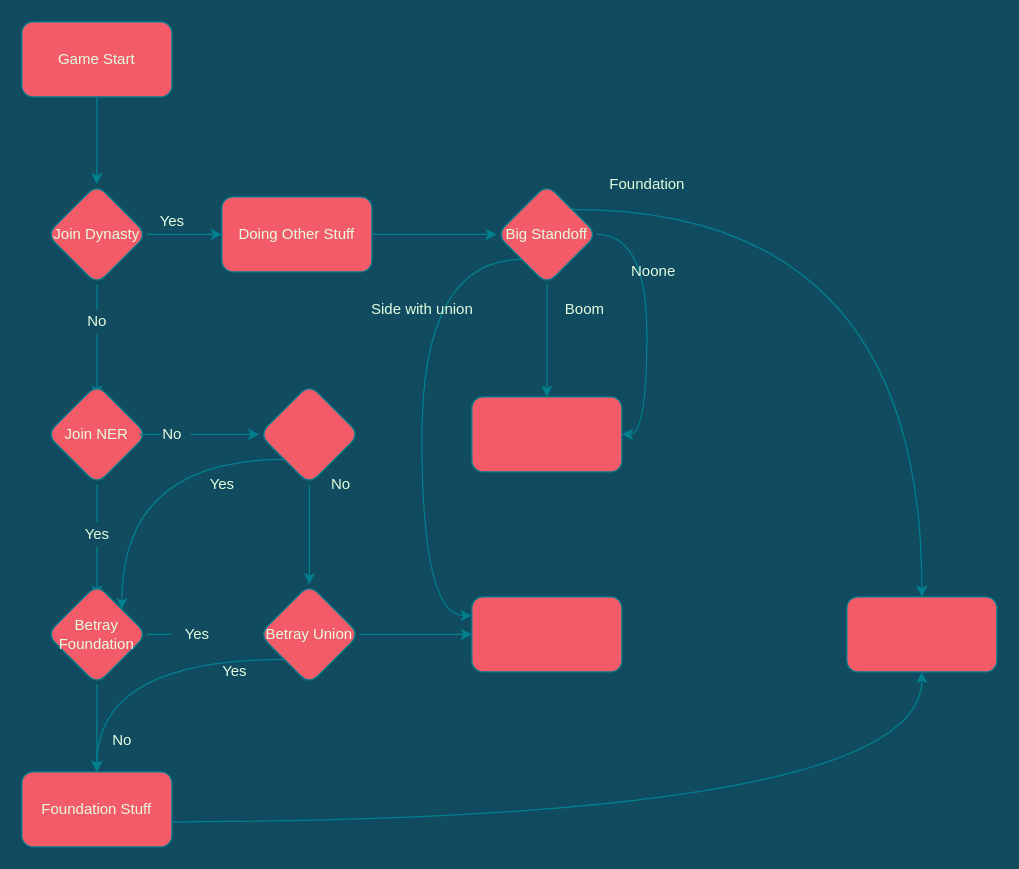
Image size: 1019x869. Some labels were removed from this diagram. Each missing label, with the box of its shape:
Foundation Ending: (846, 596, 997, 672)
Lone Ending: (471, 396, 622, 472)
Prompt for Foundation: (258, 383, 359, 484)
Union Ending: (471, 596, 622, 672)
